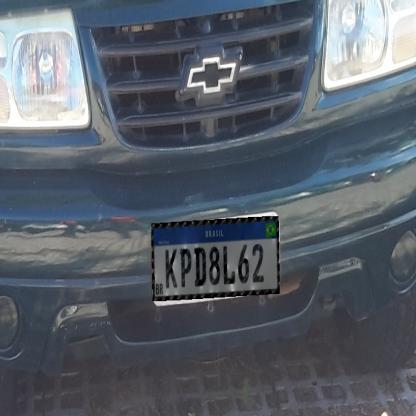PlacaM: (151, 216, 280, 301)
